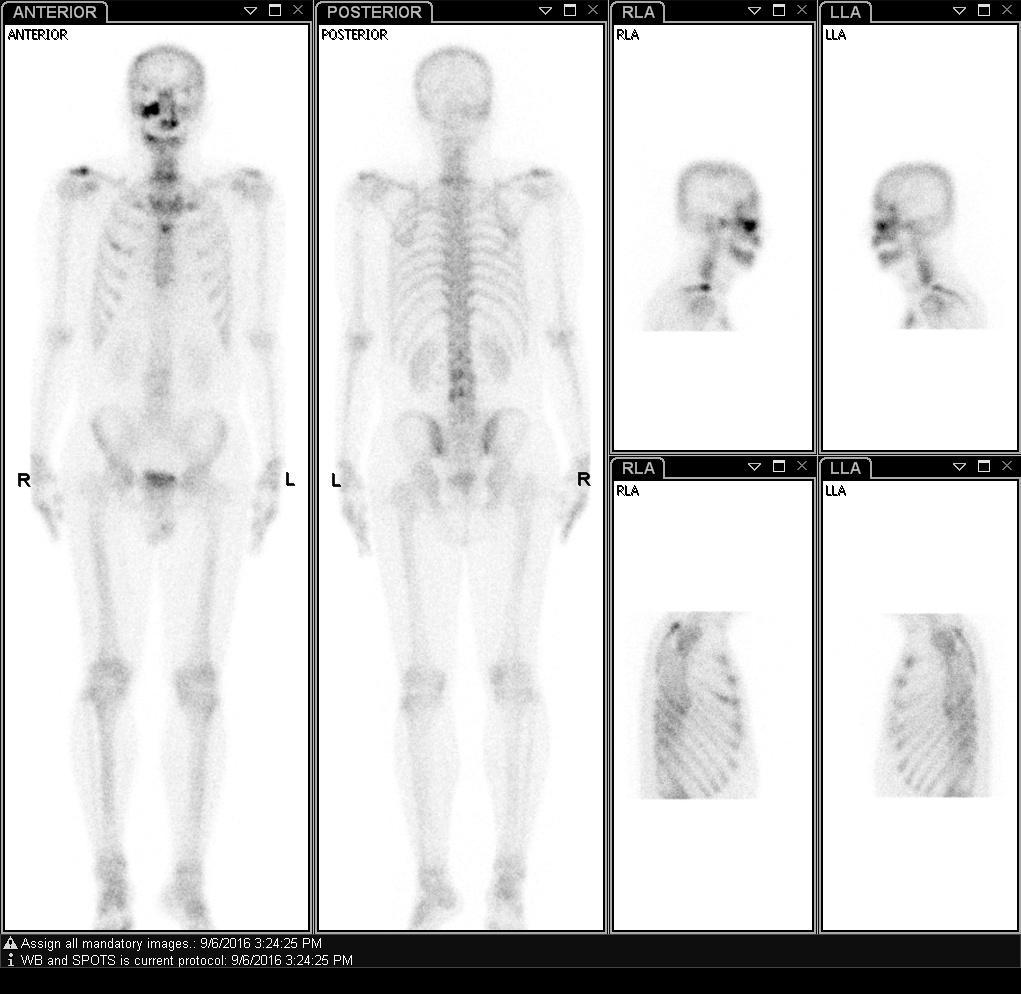person: (4, 25, 604, 929)
